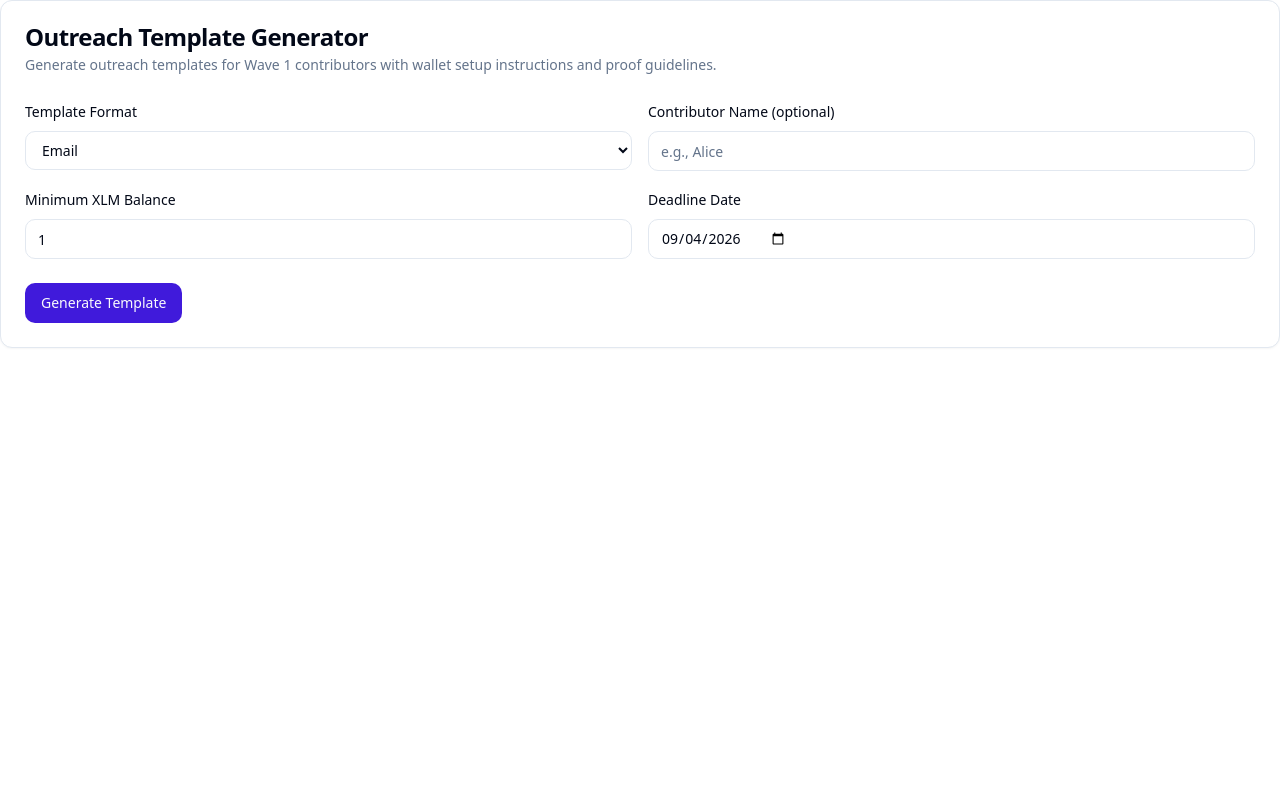
OutreachTemplateGenerator › should show copy confirmation message
Step 1. Click the button "Generate Template" → (104, 303), box [25,283,182,323]
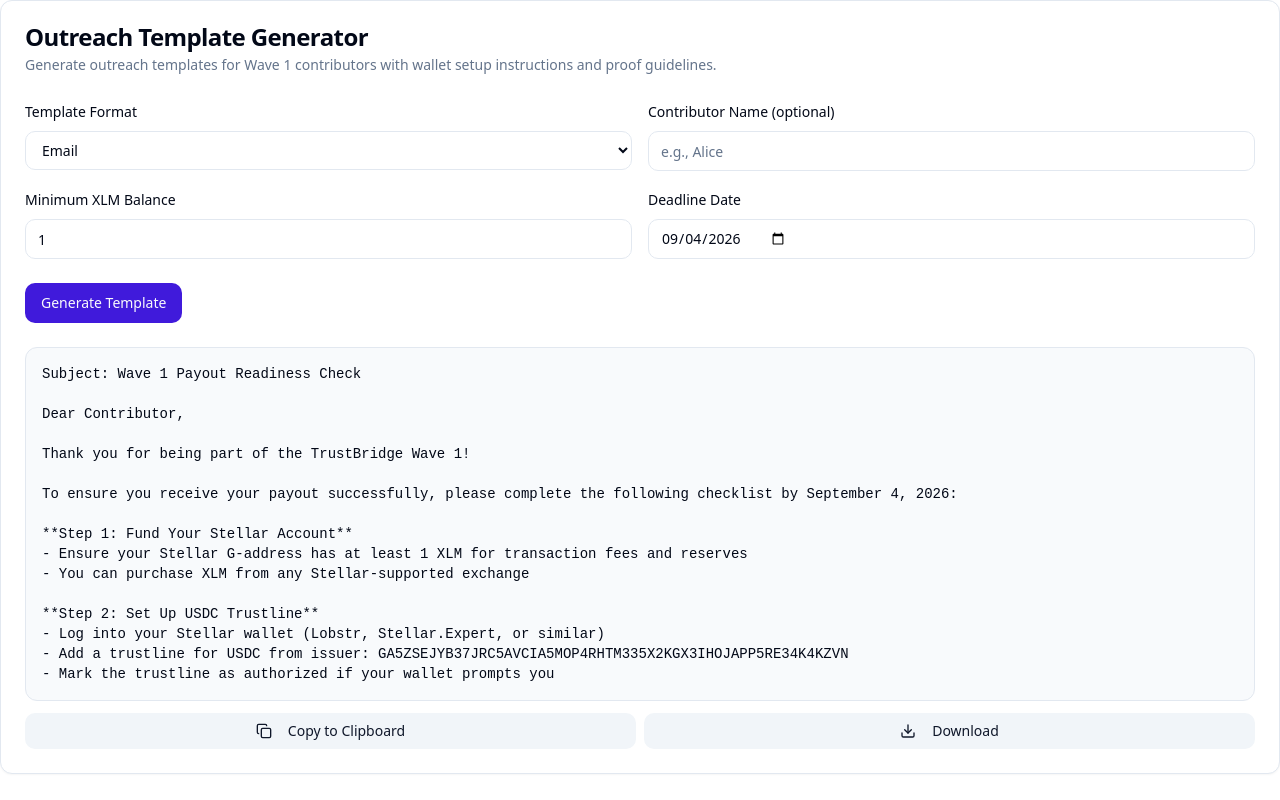
Expected: the button "Copy to Clipboard" is shown
Step 2. Click the button "Copy to Clipboard" → (330, 731), box [25,713,636,749]
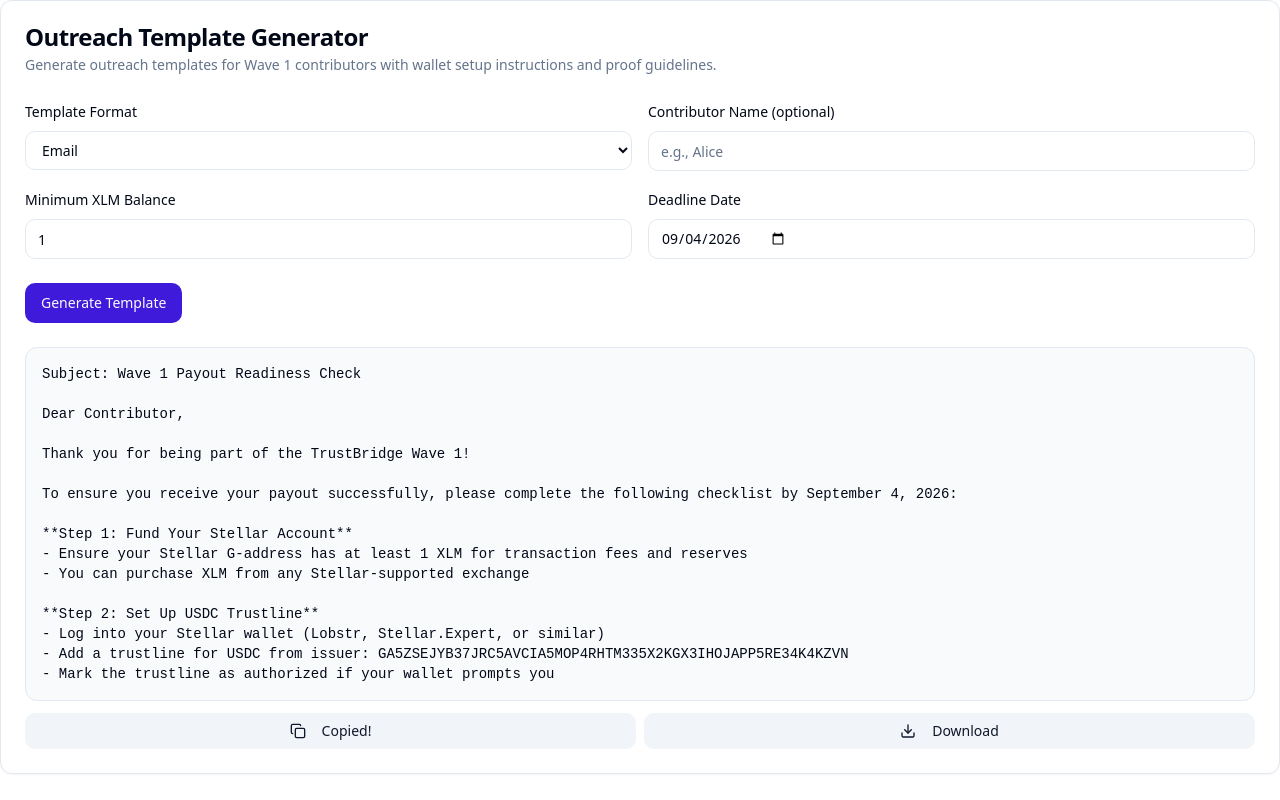
Expected: the button "Copied!" is shown, [25,713,636,749]
